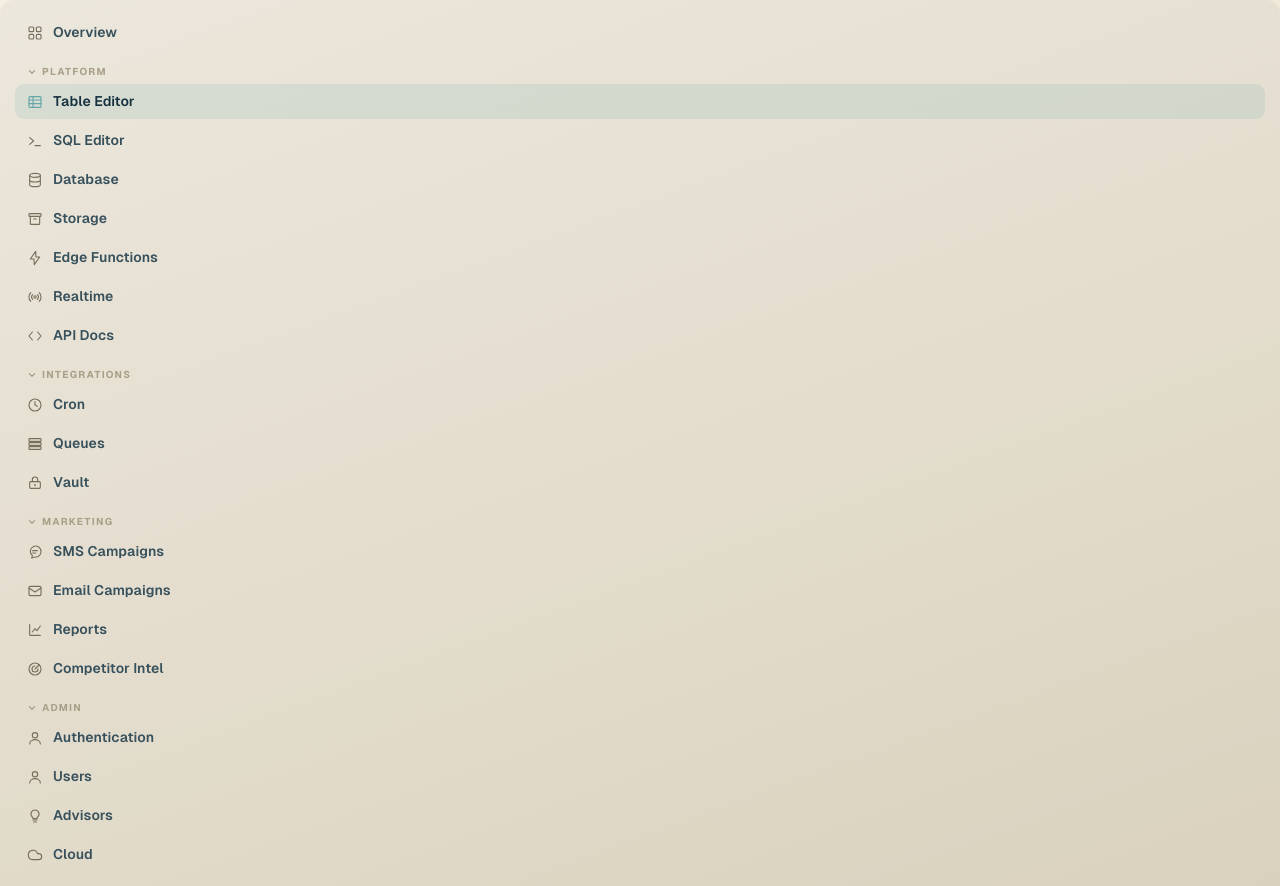
it: Nav — collapsible groups › collapses and expands a labeled group via its header toggle
Check: the link "Table Editor" is shown, box [15,84,1265,119]
Click the button "Platform": (74, 72) [15,66,1265,84]
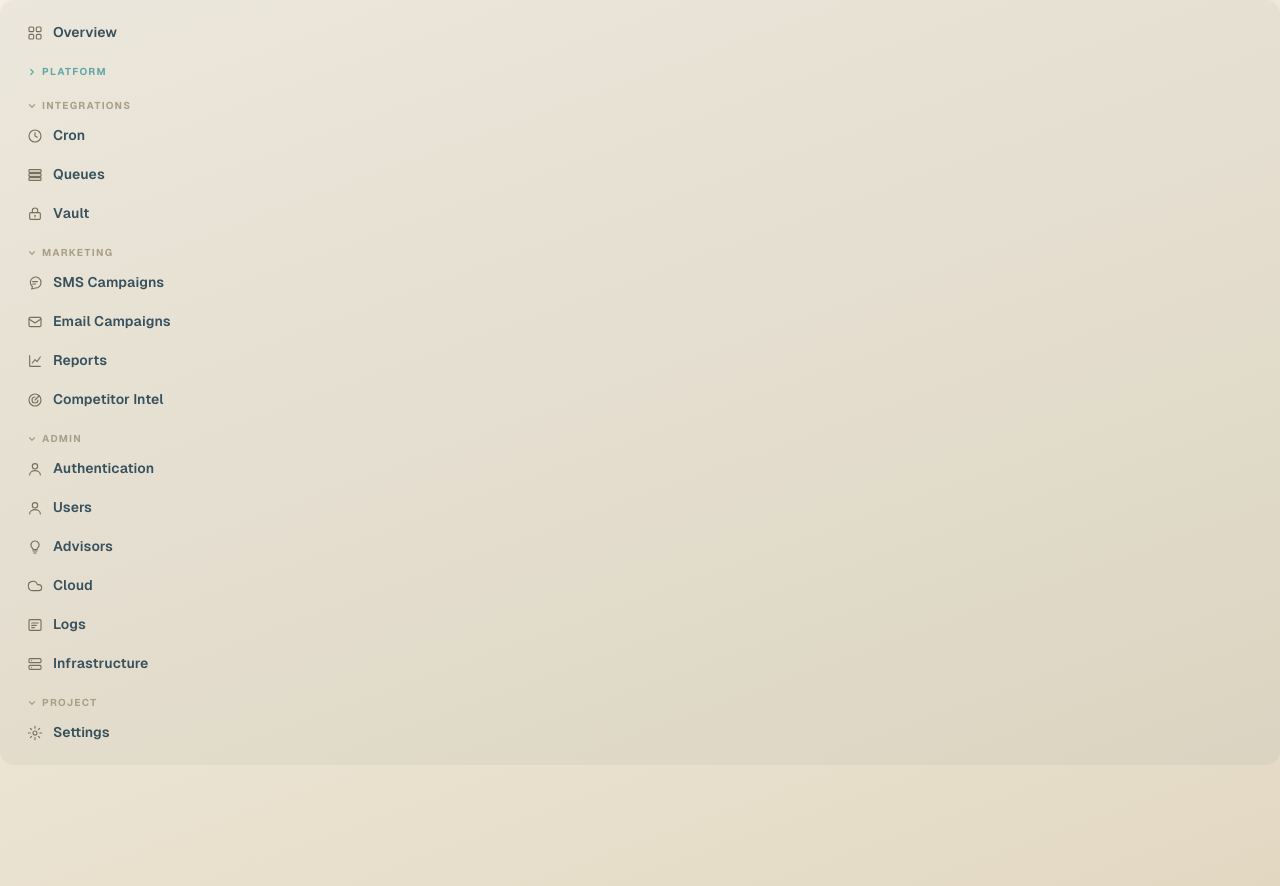
Check: the button "Platform" is collapsed
Check: the link "Table Editor" is gone
Click the button "Platform": (74, 72) [15,66,1265,84]
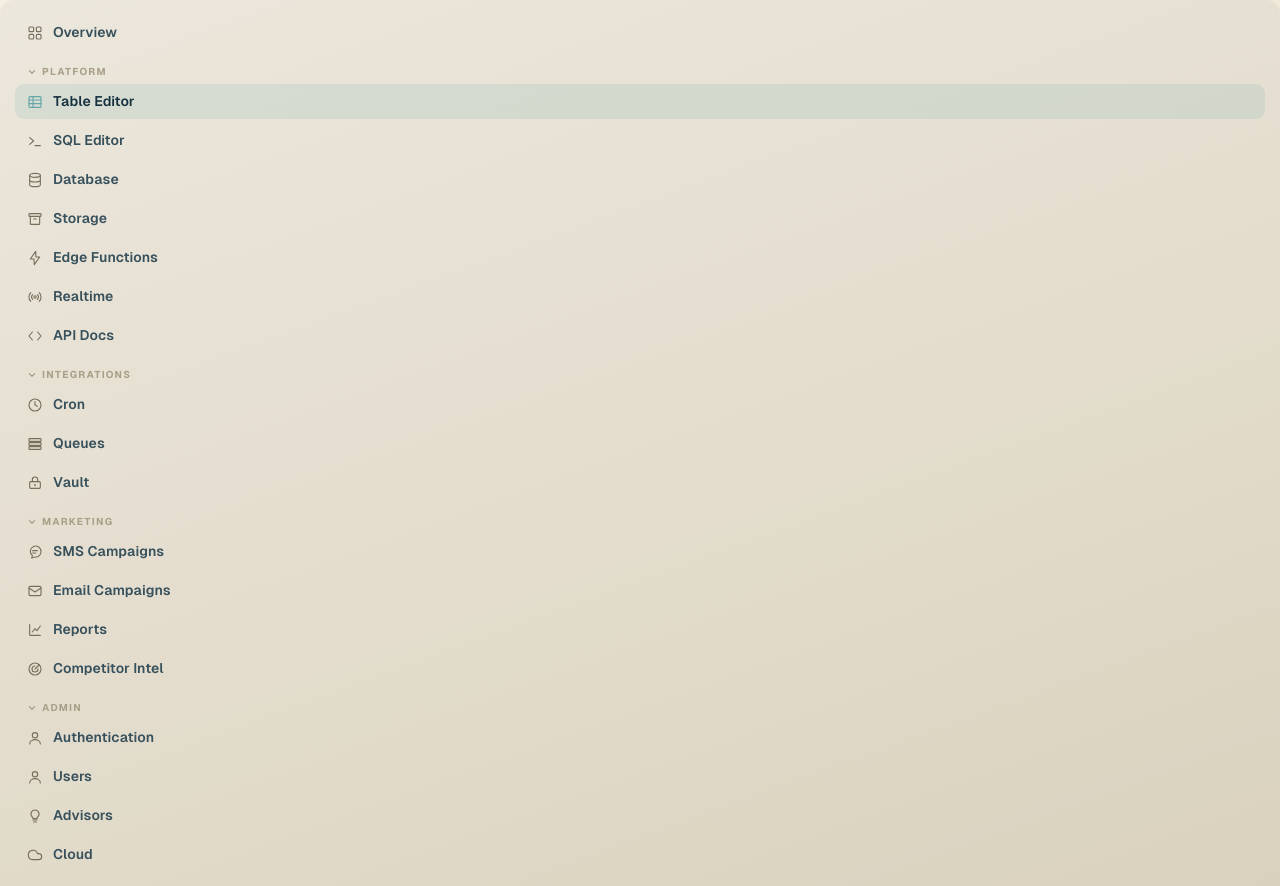
Check: the button "Platform" is expanded, box [15,66,1265,84]
Check: the link "Table Editor" is shown, box [15,84,1265,119]
